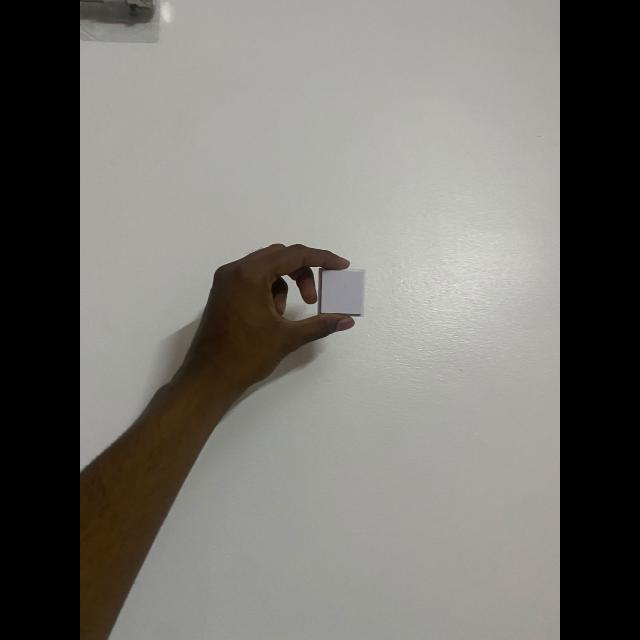RASPBERY PI CAM ENCLOSURE: (317, 268, 365, 316)
